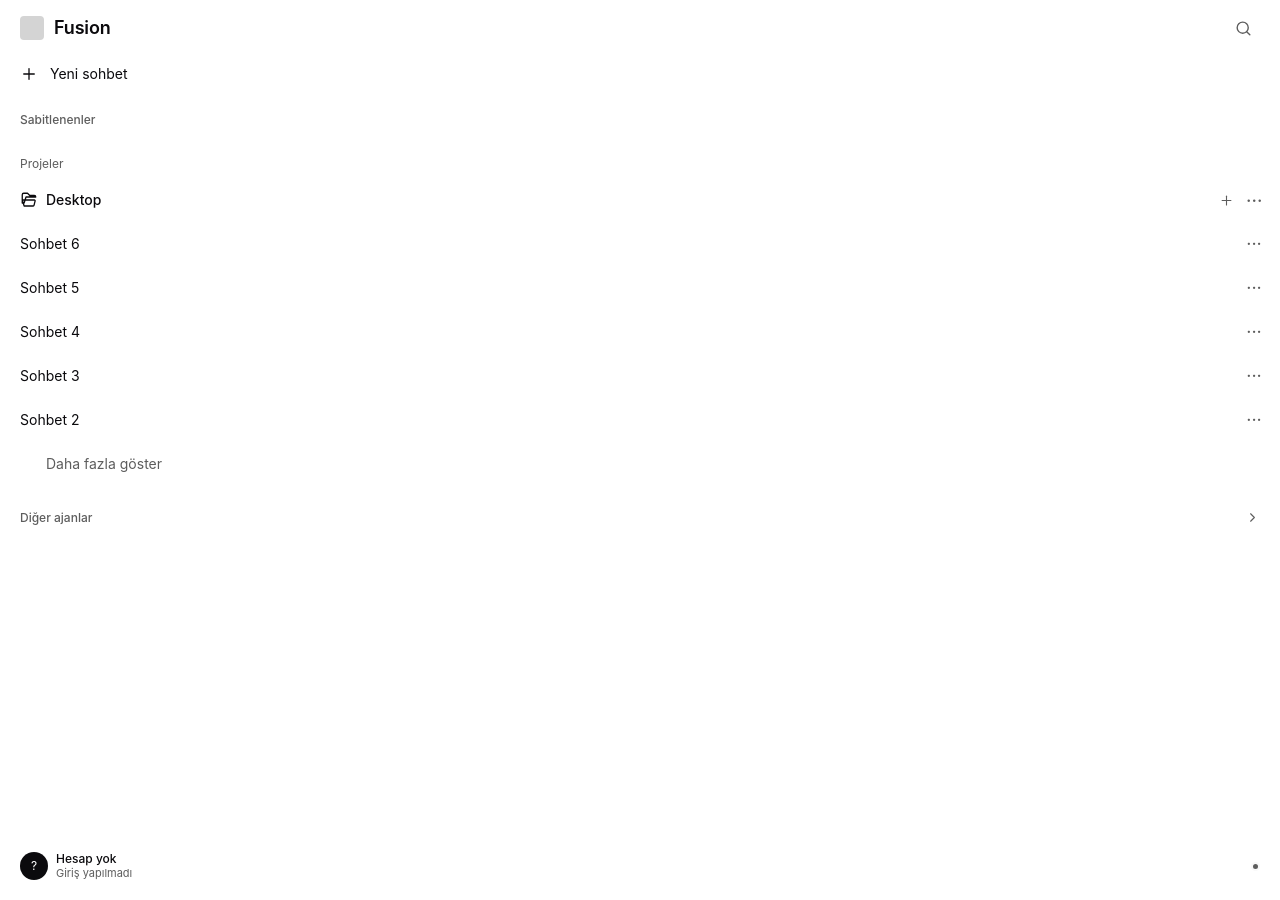
Scenario: Sidebar yeni düzen › en yeni beşi gösterir, daha fazla ile kalanları açar
Expected: the text "Sohbet 0" is not shown
Expected: the text "Sohbet 6" is shown, [20,235,80,252]
Click the button with aria-label "Desktop: Daha fazla göster".
click(104, 464)  # box [12,444,1268,485]
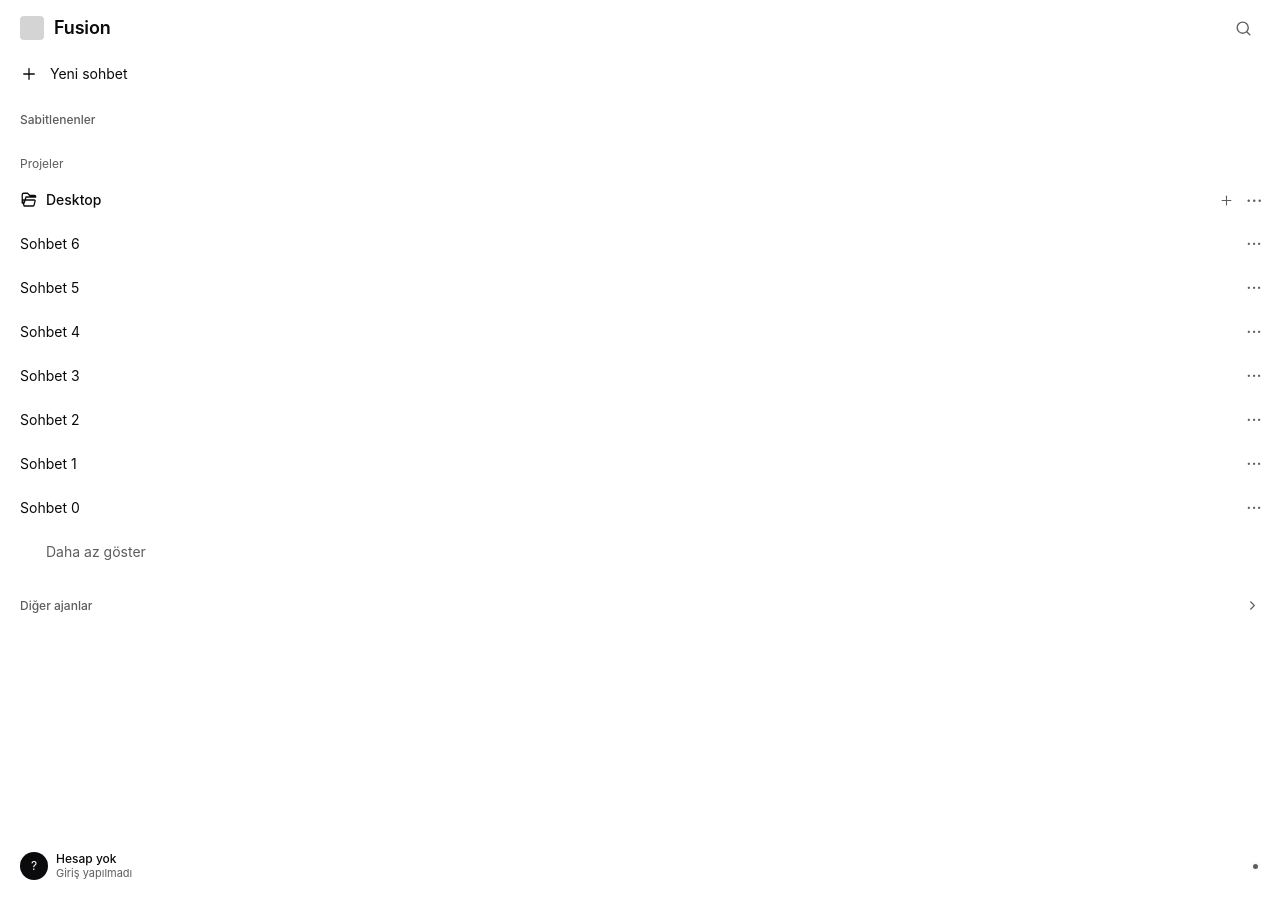
Now the text "Sohbet 0" is shown, box [20,499,80,516]
